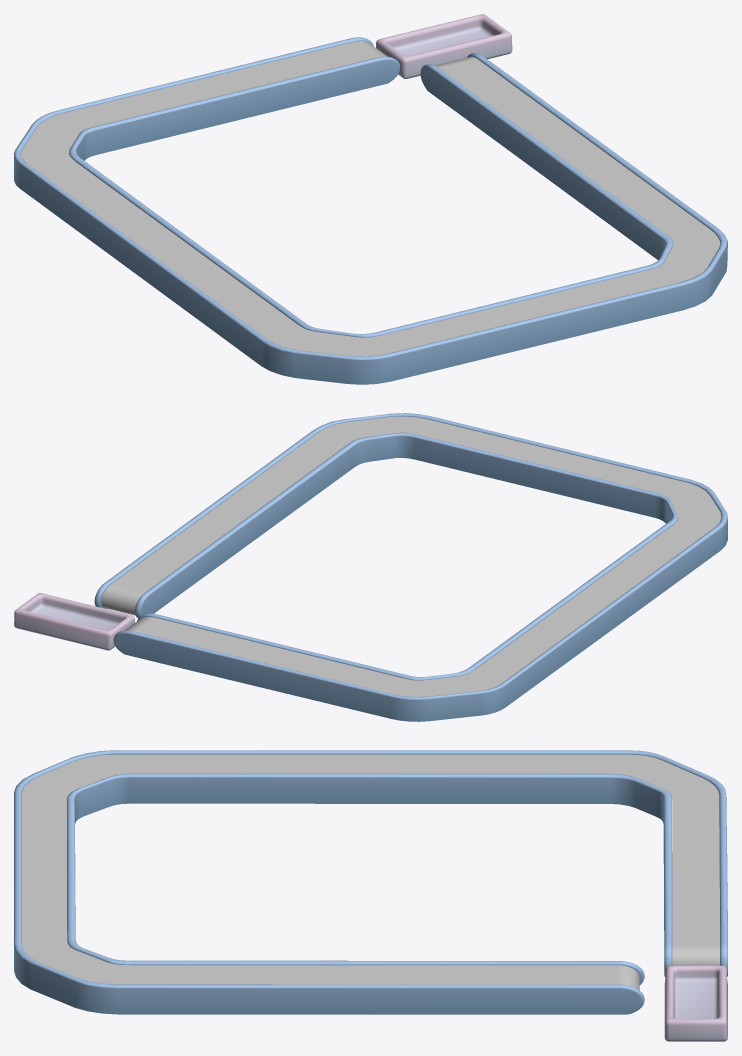
File: Model_taitao 2.fbx
The picture shows the model from 3 angles, top to bottom: view 1: azimuth 30°, elevation 25°; view 2: azimuth 150°, elevation 25°; view 3: azimuth 270°, elevation 25°; orthographic projection. The views are drawn at different scales.
Parts seen in each view (by area): view 1: polySurface25, ray2, Tray; view 2: polySurface25, ray2, Tray; view 3: polySurface25, ray2, Tray.
Boxes of the visible parts, x1,y1,x2,y2 form: polySurface25: (14, 37, 727, 384); ray2: (21, 41, 720, 356); Tray: (376, 14, 512, 78); polySurface25: (94, 413, 727, 721); ray2: (101, 416, 721, 696); Tray: (14, 593, 134, 650); polySurface25: (14, 750, 727, 1014); ray2: (22, 754, 719, 990); Tray: (664, 965, 727, 1041).
Bounding box in the file's own units: 1330 × 68.91 × 1516.
